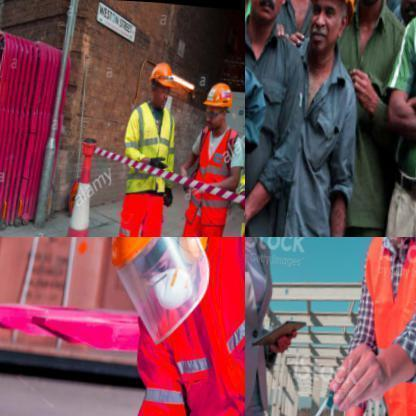Boots: (201, 79, 235, 113), (148, 61, 180, 92)
Glass: (124, 100, 176, 195), (189, 119, 241, 202)
